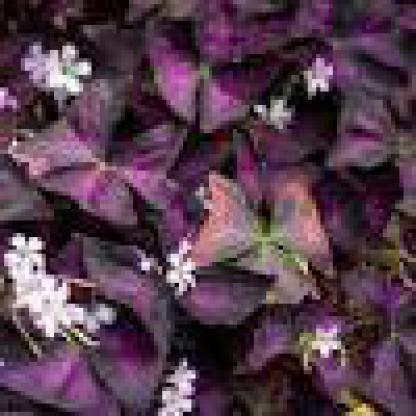Kupu-Kupu: (30, 89, 168, 222), (93, 209, 238, 334), (205, 180, 350, 284), (151, 18, 292, 109)
